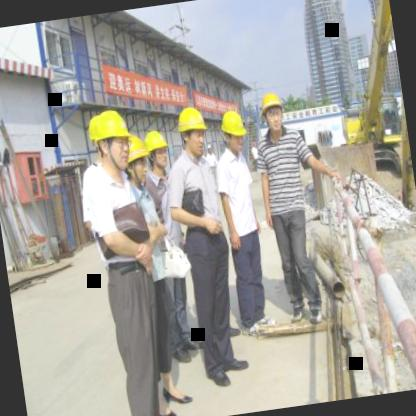helmet: (84, 106, 134, 175), (172, 104, 210, 157), (254, 86, 290, 137), (122, 134, 154, 188), (218, 106, 251, 157), (142, 127, 170, 177)
